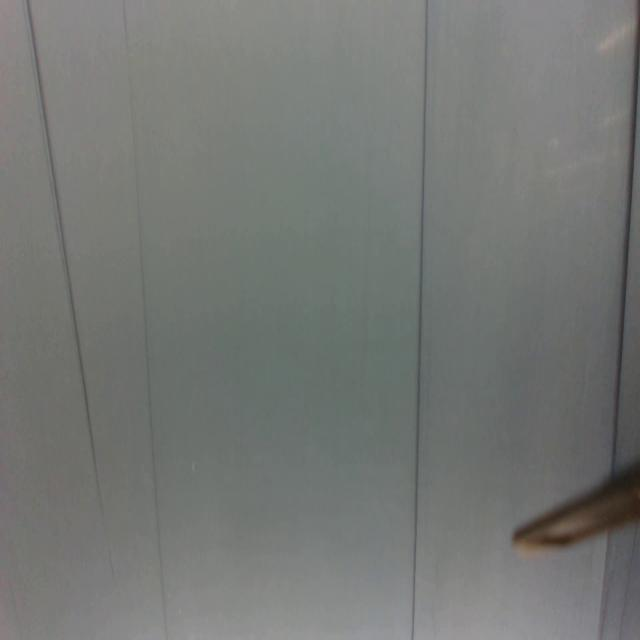crease: (25, 0, 103, 513), (123, 1, 168, 640), (611, 21, 640, 462), (410, 0, 428, 639), (618, 522, 640, 640), (594, 528, 611, 640)
